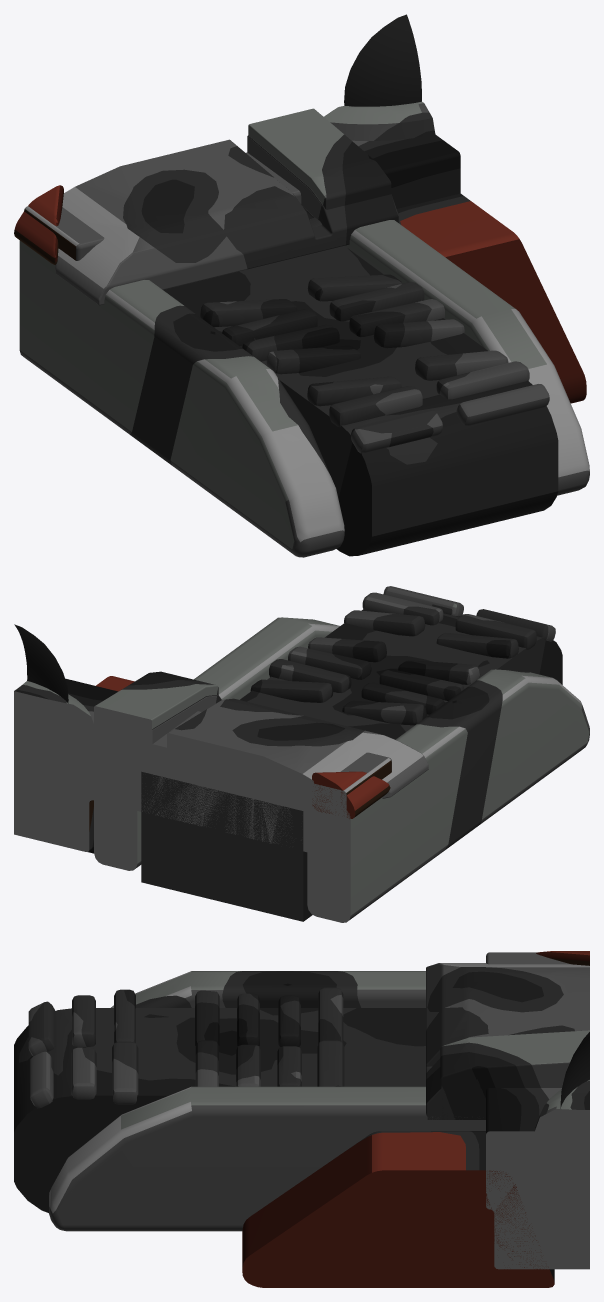
Rendered from track_carrier_bl_damaged.glb.
The picture shows the model from 3 angles, top to bottom: view 1: azimuth 30°, elevation 25°; view 2: azimuth 150°, elevation 25°; view 3: azimuth 270°, elevation 25°; orthographic projection. The views are drawn at different scales.
Visible parts, largest first — view 1: track_carrier_bl_damaged; view 2: track_carrier_bl_damaged; view 3: track_carrier_bl_damaged.
Part boxes in pixels (box(x1,y1,x2,y2)): track_carrier_bl_damaged: box(14, 14, 589, 557); track_carrier_bl_damaged: box(14, 586, 589, 922); track_carrier_bl_damaged: box(14, 951, 589, 1287).
Bounding box in the file's own units: 21.3 × 13.53 × 28.
